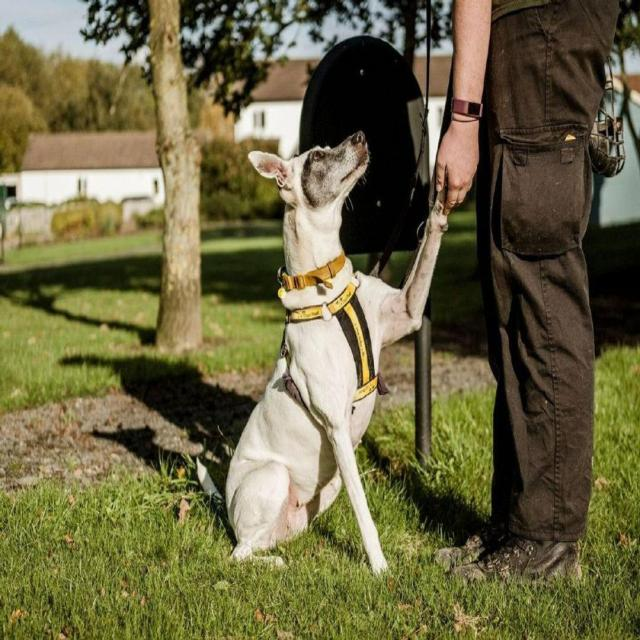Dog: (244, 124, 377, 230)
